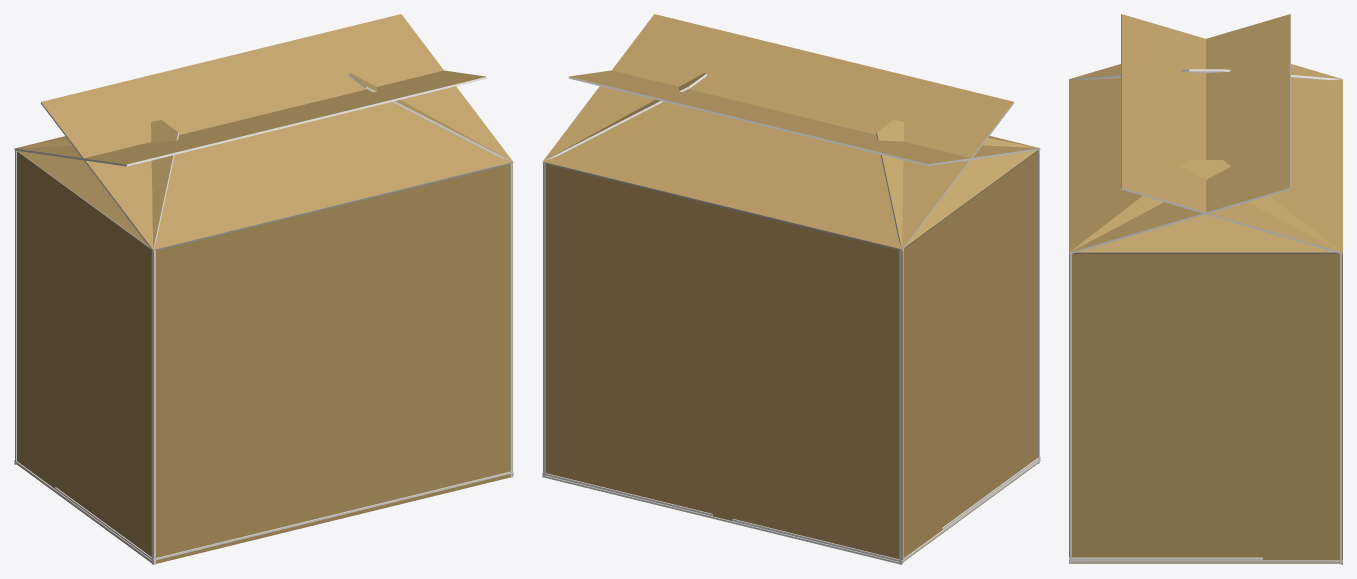
The picture shows the model from 3 angles, left to right: view 1: azimuth 30°, elevation 25°; view 2: azimuth 150°, elevation 25°; view 3: azimuth 270°, elevation 25°; orthographic projection.
Parts seen in each view (by area): view 1: Packive_Box_fefco0217; view 2: Packive_Box_fefco0217; view 3: Packive_Box_fefco0217.
Boxes of the visible parts, left/top/right/bottom form: Packive_Box_fefco0217: left=14, top=14, right=513, bottom=564; Packive_Box_fefco0217: left=542, top=14, right=1040, bottom=564; Packive_Box_fefco0217: left=1069, top=14, right=1342, bottom=564.
Size of the model in its own units: 0.3 by 0.304 by 0.2.
26 materials, 13 textured.
